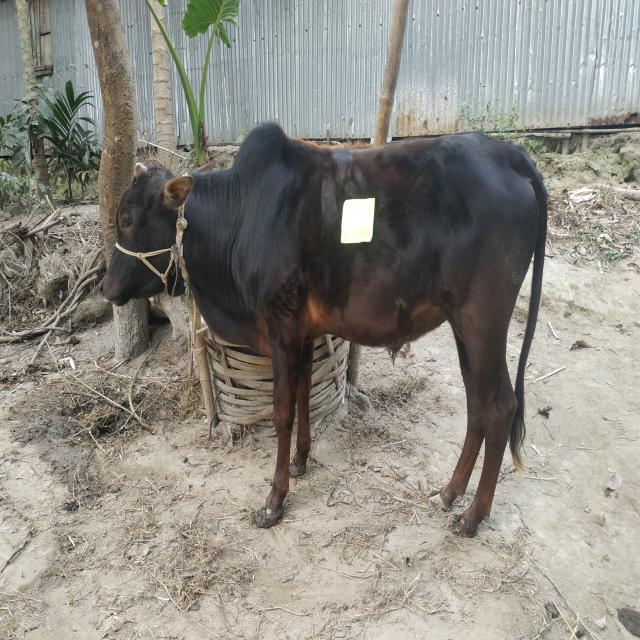badan_sapi: (233, 127, 538, 359)
sapi: (90, 110, 558, 541)
